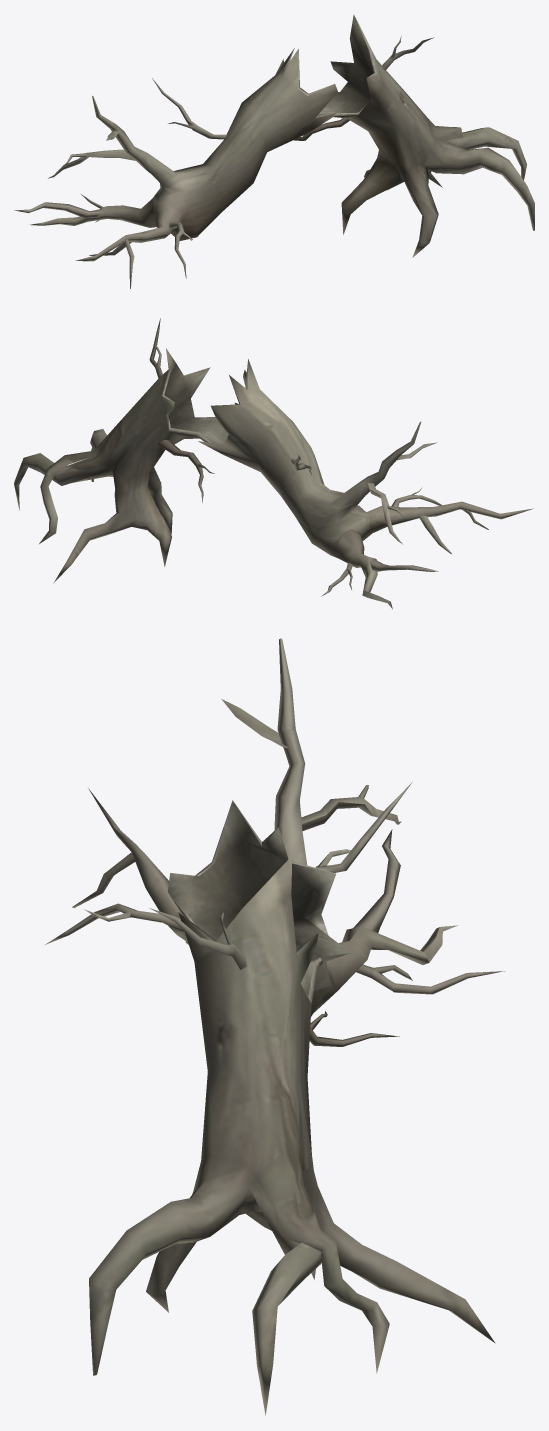
Rendered from DN_lv2_kushu03.FBX.
3 renders of one model, top to bottom at view 1: azimuth 30°, elevation 25°; view 2: azimuth 150°, elevation 25°; view 3: azimuth 270°, elevation 25°, orthographic. The views are drawn at different scales.
Visible parts, largest first — view 1: DN_lv2_kushu03; view 2: DN_lv2_kushu03; view 3: DN_lv2_kushu03.
Boxes of the visible parts, x1,y1,x2,y2 form: DN_lv2_kushu03: (14, 14, 534, 288); DN_lv2_kushu03: (14, 318, 533, 609); DN_lv2_kushu03: (45, 638, 504, 1415).
Size of the model in its own units: 1428 by 621 by 601.
